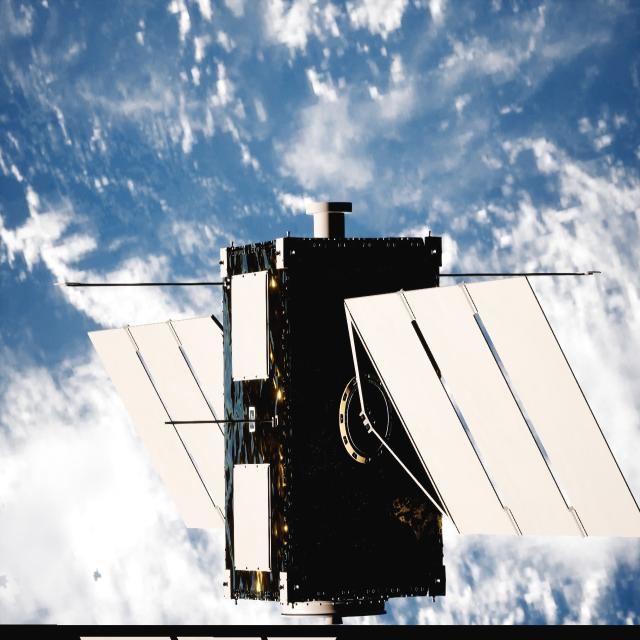satellite: (89, 203, 640, 619)
